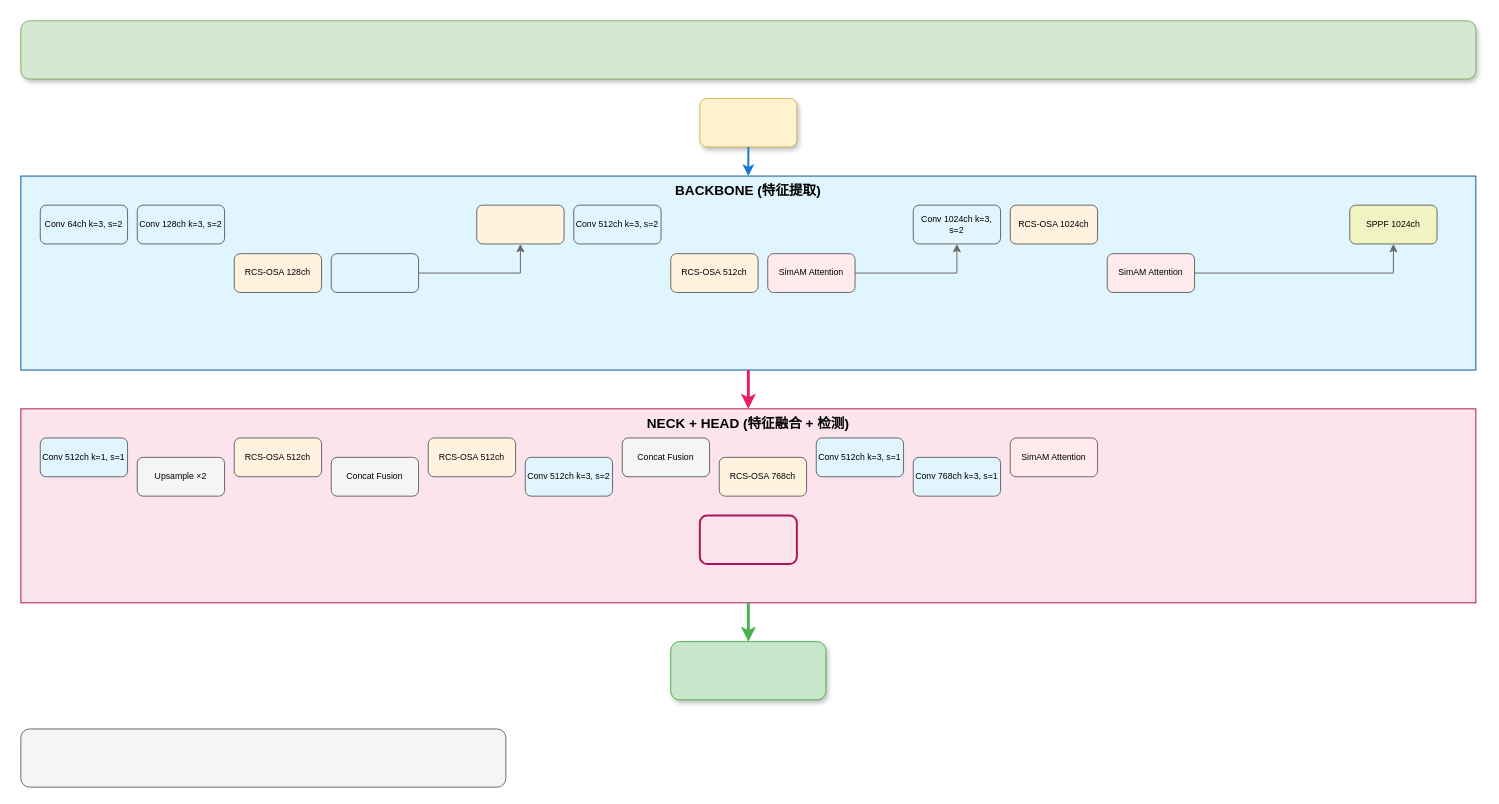
This 1499x804 diagram has some shape labels left out. The centre of each missing label's shape, as x and y in pixels:
Conv 256ch k=3, s=2: the point at 374,272
Detection Results Bounding Boxes + Confidence Scores: the point at 749,672
IDetect Classes: nc: the point at 747,539
Input Image 640×640×3: the point at 749,124
RCS-OSA 256ch: the point at 520,224
YOLOv4-RCSOSA-SimAM RCS-OSA模块 + SimAM注意力机制 + IDetect检测头: the point at 749,51
模块图例 ■ 标准卷积 ■ RepVGG ■ CSP ■ RCS-OSA ■ 注意力: the point at 263,757
